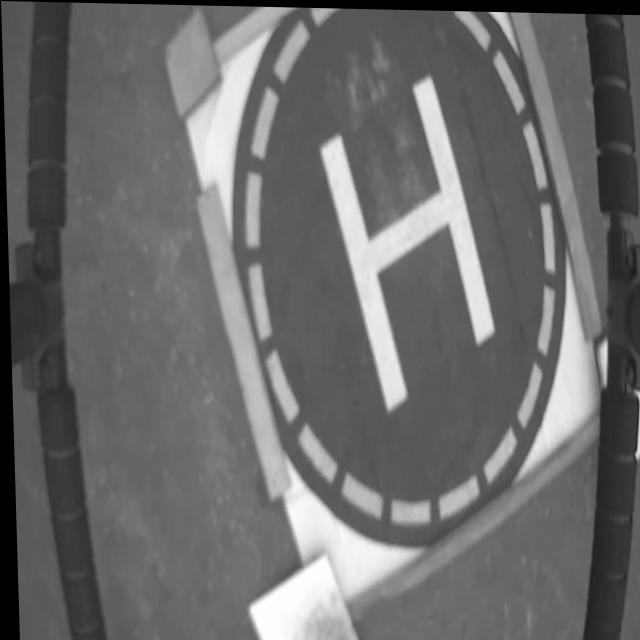Helipad: (318, 69, 492, 410)
